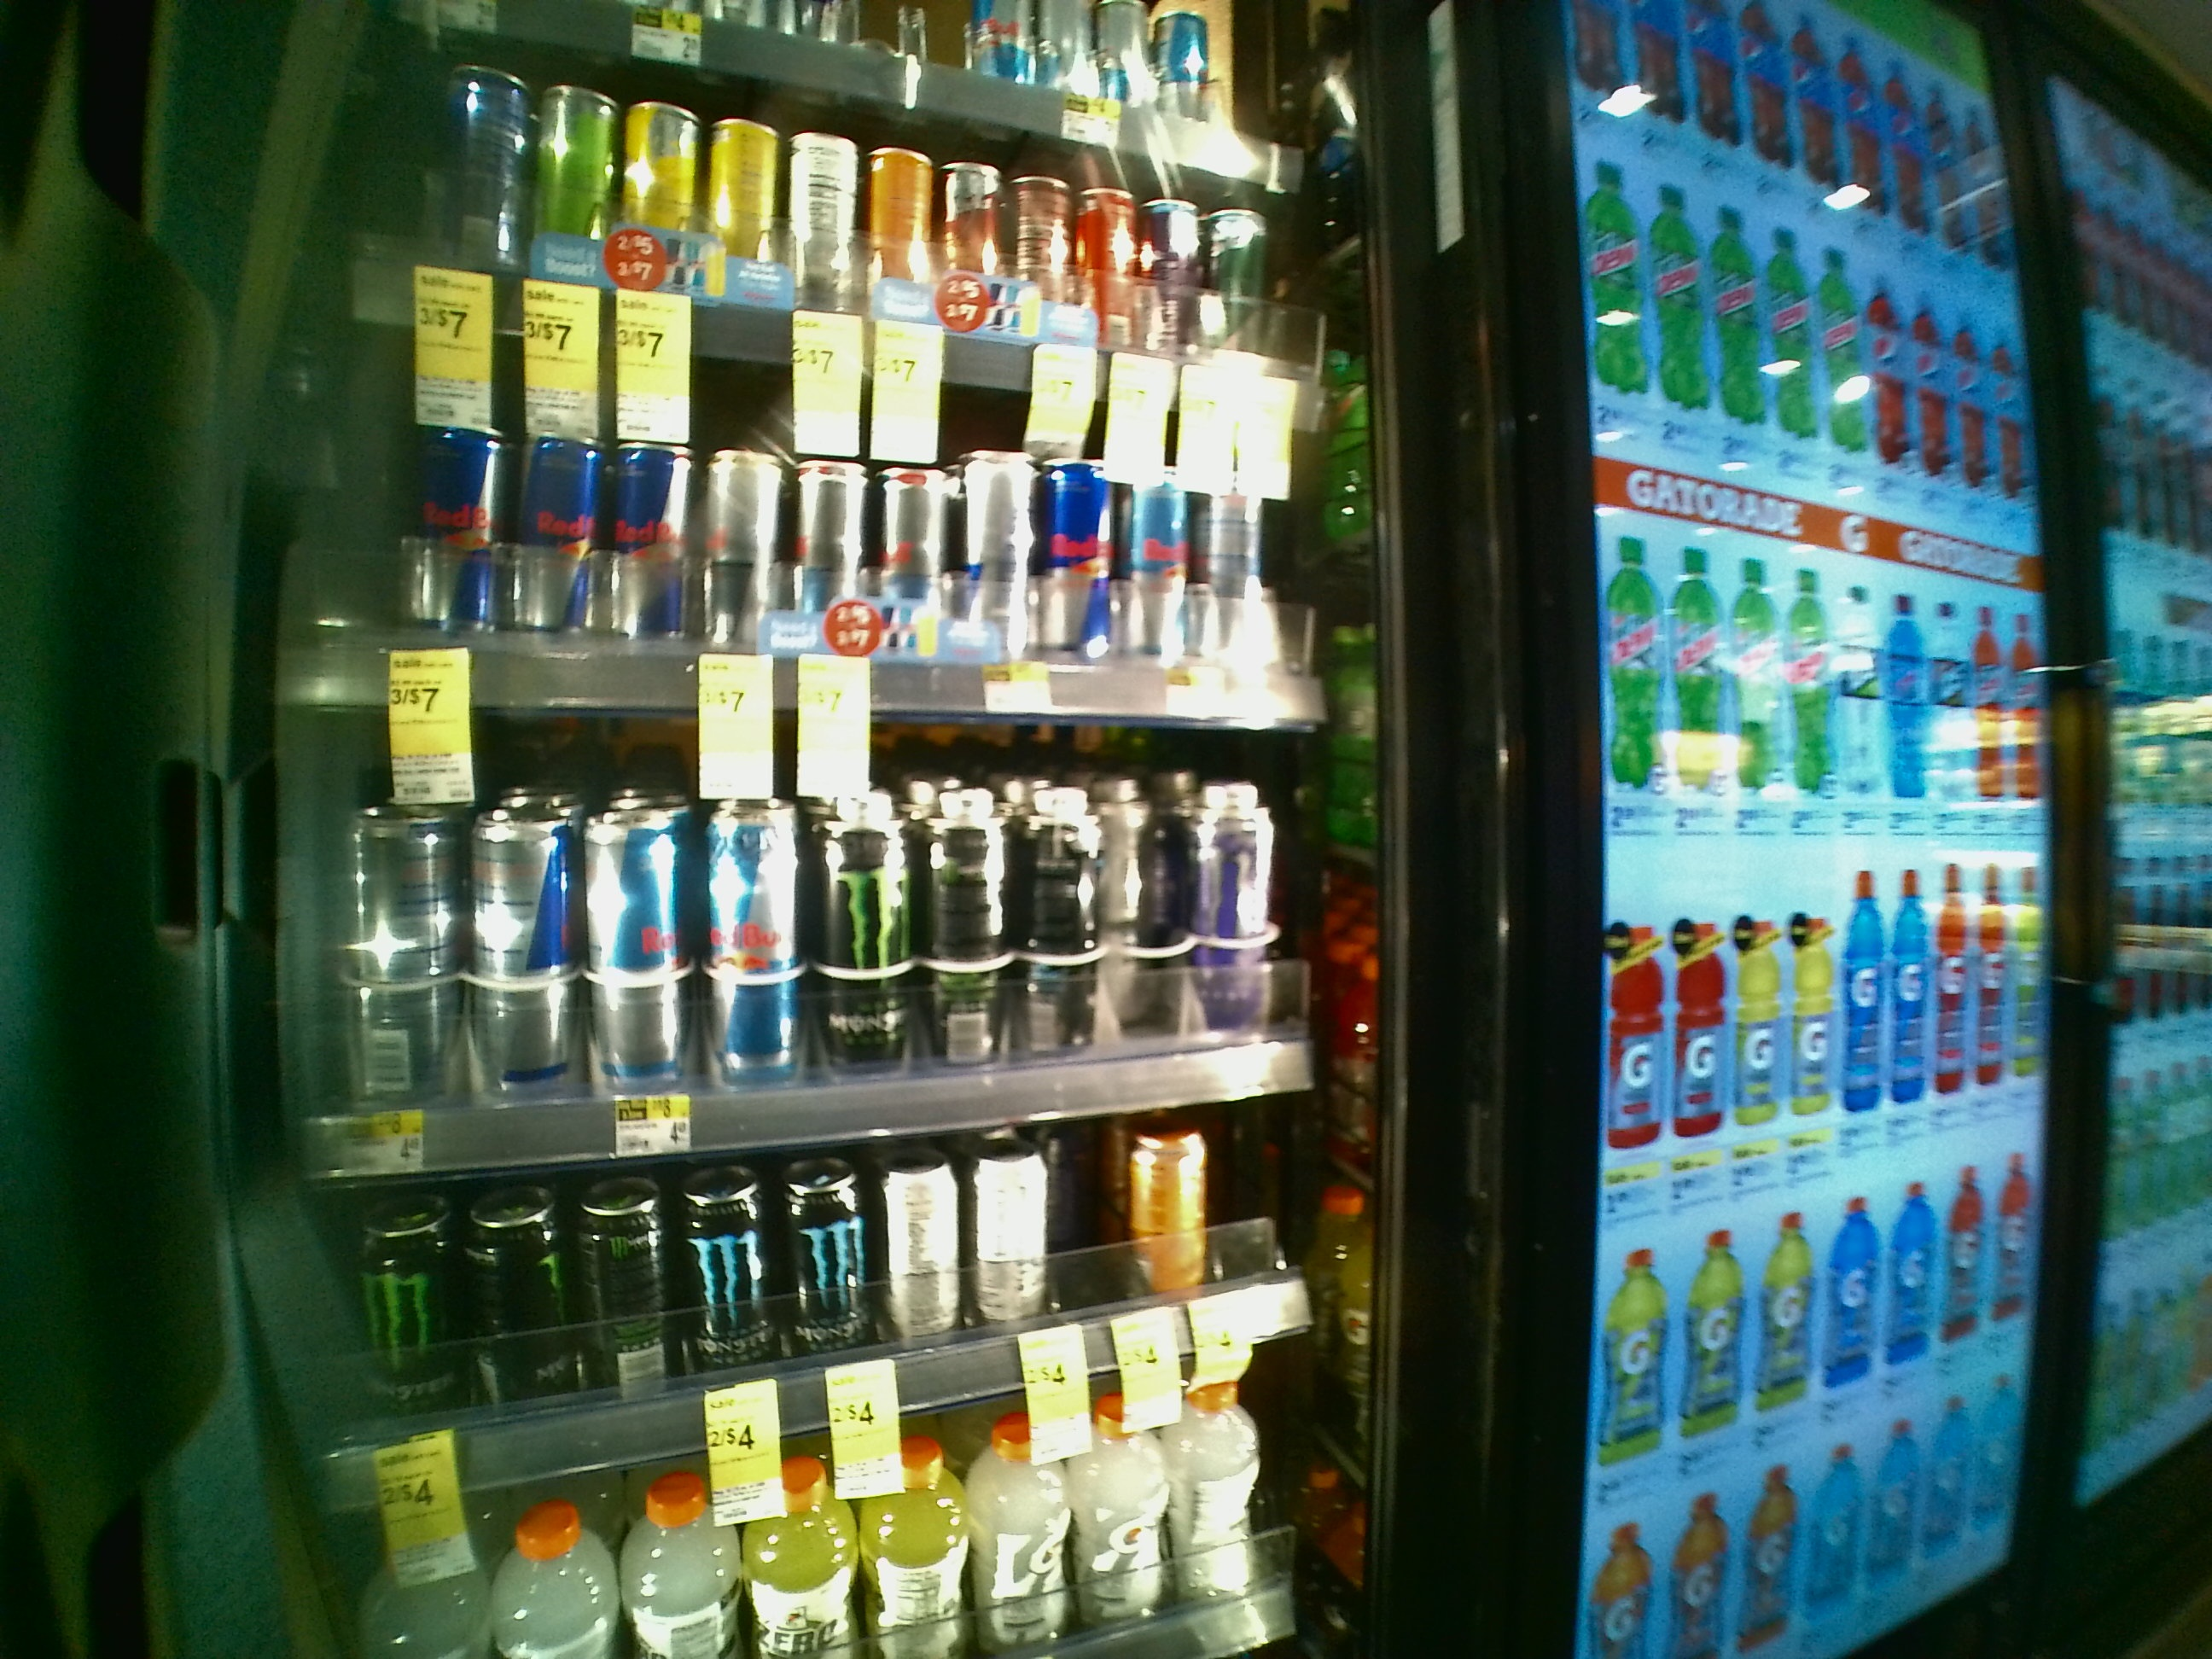shelf: (266, 694, 1411, 1143)
